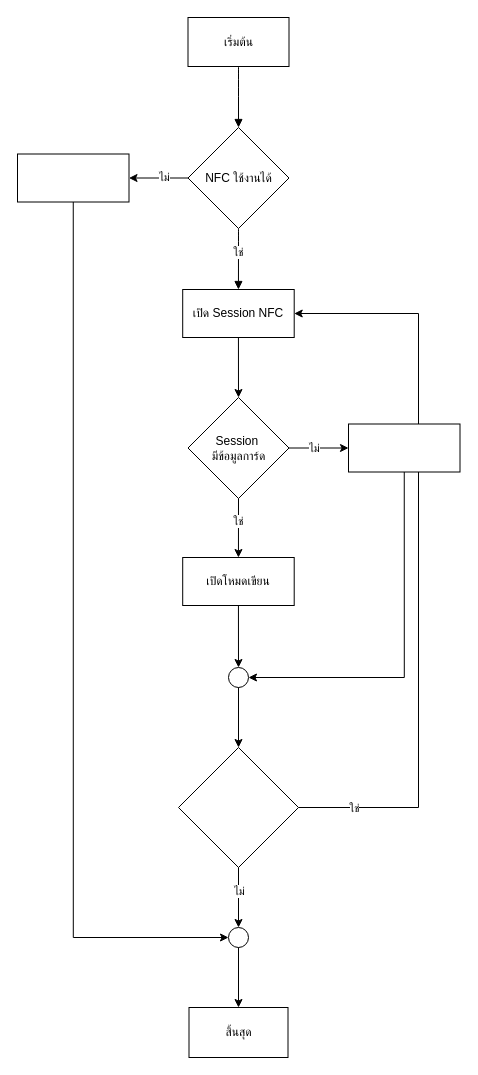
Some shapes in this 478 by 1075 pixel diagram are drawn without their labels. The centre of each missing label's shape, as x and y in pixels:
"เกิดข้อผิดพลาด ระหว่าง อ่าน-เขียน" goes at [238,807].
"เปิดโหมดอ่าน" goes at [404,447].
"แสดงข้อผิดพลาด" goes at [72,177].
